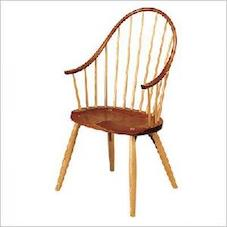chair: (20, 0, 208, 216)
